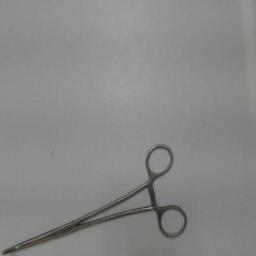Lahey Forceps: (2, 140, 192, 254)
